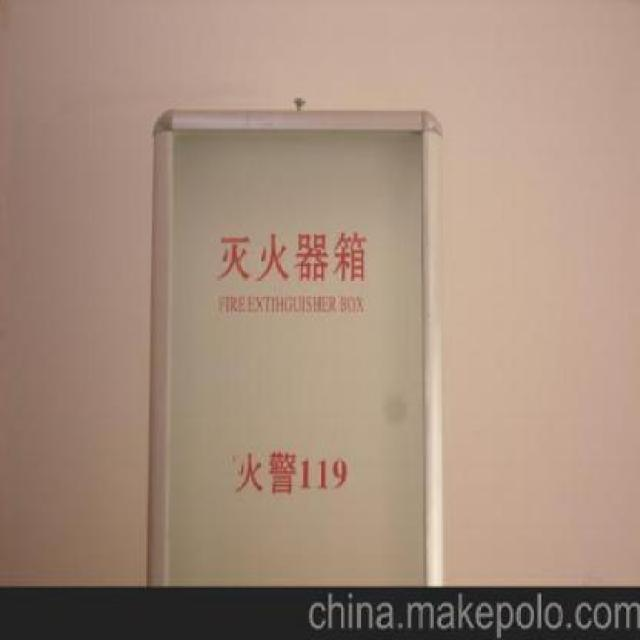firehydrant: (143, 94, 447, 587)
